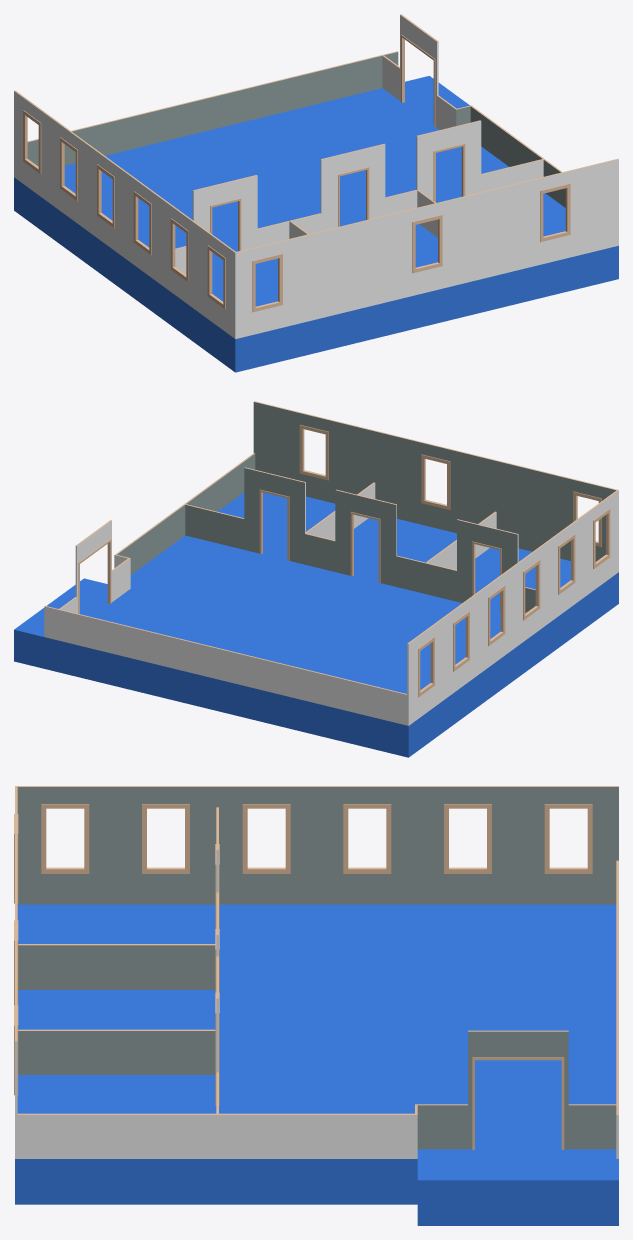
File: Office.glb
3 views of the same model, one above another, from view 1: azimuth 30°, elevation 25°; view 2: azimuth 150°, elevation 25°; view 3: azimuth 270°, elevation 25° (orthographic). The views are drawn at different scales.
Parts seen in each view (by area): view 1: Floor, Wall.009, Wall.006, Wall.003, Window1.004, Window1.005, Window1.003, wallDoorway(Clone).001, wallDoorway(Clone), Window1, Window1.006, Window1.001 (+13 smaller); view 2: Floor, Wall.009, Wall.006, Window1.004, Wall.003, Window1.005, wallDoorway(Clone).001, wallDoorway(Clone), Wall.010, wallDoorway(Clone).002, Window1.007, Window1.006 (+14 smaller); view 3: Floor, Wall.010, Floor.001, Window1.008, Window1.001, Window1.006, Window1.007, Window1.002, Window1, Wall.005, Wall.008, wallDoorwayWide(Clone) (+4 smaller).
Part boxes in pixels (x1=…): Floor: x1=14, y1=88, x2=618, y2=372; Wall.009: x1=14, y1=51, x2=398, y2=177; Wall.006: x1=299, y1=213, x2=395, y2=323; Wall.003: x1=458, y1=182, x2=522, y2=284; Window1.004: x1=395, y1=198, x2=459, y2=299; Window1.005: x1=522, y1=166, x2=586, y2=268; Window1.003: x1=235, y1=236, x2=299, y2=338; wallDoorway(Clone).001: x1=320, y1=143, x2=385, y2=230; wallDoorway(Clone): x1=416, y1=120, x2=481, y2=202; Window1: x1=198, y1=225, x2=236, y2=338; Window1.006: x1=87, y1=144, x2=125, y2=257; Window1.001: x1=161, y1=198, x2=199, y2=311; Floor: x1=44, y1=492, x2=618, y2=757; Wall.009: x1=44, y1=605, x2=409, y2=725; Wall.006: x1=466, y1=453, x2=557, y2=551; Window1.004: x1=405, y1=438, x2=466, y2=533; Wall.003: x1=345, y1=423, x2=405, y2=520; Window1.005: x1=284, y1=408, x2=345, y2=503; wallDoorway(Clone).001: x1=335, y1=489, x2=396, y2=586; wallDoorway(Clone): x1=244, y1=467, x2=305, y2=564; Wall.010: x1=114, y1=453, x2=255, y2=574; wallDoorway(Clone).002: x1=457, y1=519, x2=518, y2=612; Window1.007: x1=407, y1=618, x2=443, y2=725; Window1.006: x1=477, y1=566, x2=513, y2=674; Floor: x1=15, y1=904, x2=616, y2=1204; Wall.010: x1=15, y1=1113, x2=417, y2=1158; Floor.001: x1=417, y1=1159, x2=618, y2=1225; Window1.008: x1=417, y1=786, x2=518, y2=904; Window1.001: x1=115, y1=786, x2=216, y2=904; Window1.006: x1=317, y1=786, x2=417, y2=904; Window1.007: x1=518, y1=786, x2=618, y2=904; Window1.002: x1=216, y1=786, x2=316, y2=904; Window1: x1=15, y1=786, x2=115, y2=904; Wall.005: x1=18, y1=944, x2=215, y2=989; Wall.008: x1=18, y1=1029, x2=215, y2=1074; wallDoorwayWide(Clone): x1=468, y1=1030, x2=568, y2=1149.
Size of what is drawn, in the model's own units: 13.02 by 3.58 by 12.02.
